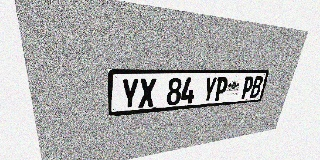4: (180, 77, 197, 104)
8: (166, 78, 183, 105)
B: (249, 76, 264, 98)
P: (213, 77, 229, 101), (240, 76, 255, 99)
X: (139, 78, 156, 108)
Y: (121, 78, 139, 109), (202, 77, 218, 102)
